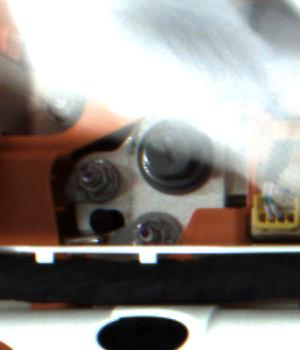screw_s: (128, 208, 173, 245), (73, 163, 115, 195)
